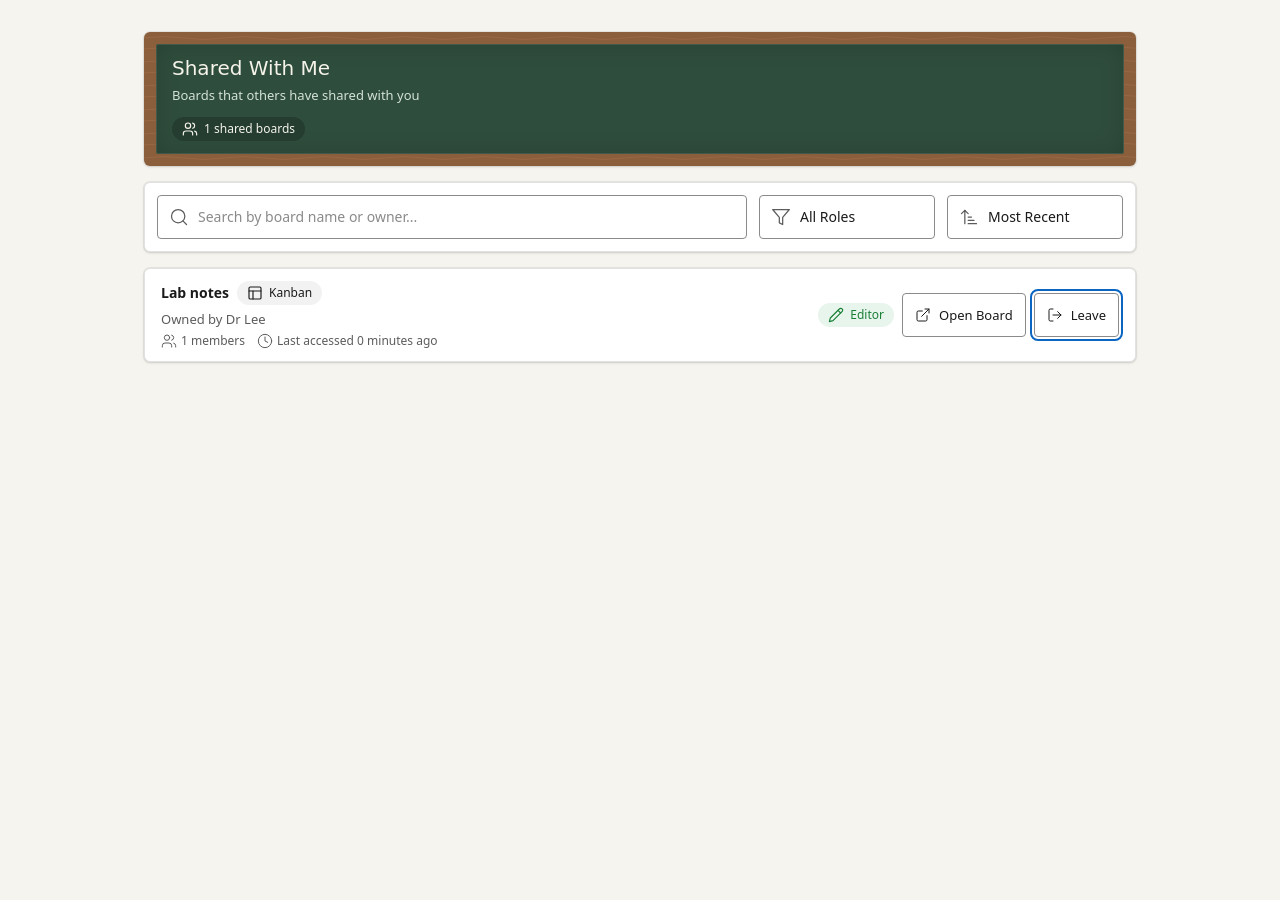
Scenario: SharedPage confirmation dialog › leave: Escape returns focus to Leave Lab notes, and the leave action keeps the danger style
Click the button named "Leave Lab notes" at point(1076, 315), box x1=1034 y1=293 x2=1119 y2=337
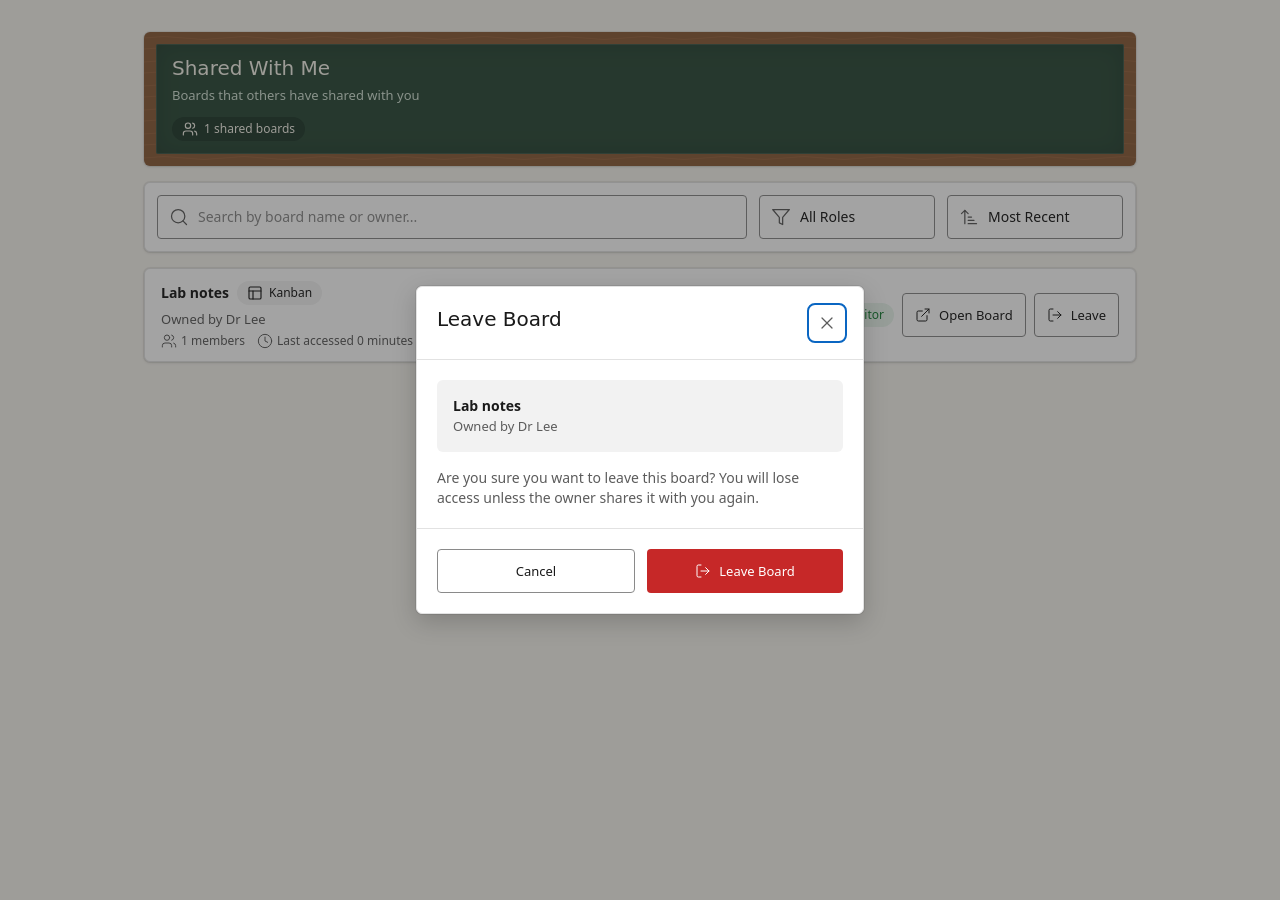
Press Escape
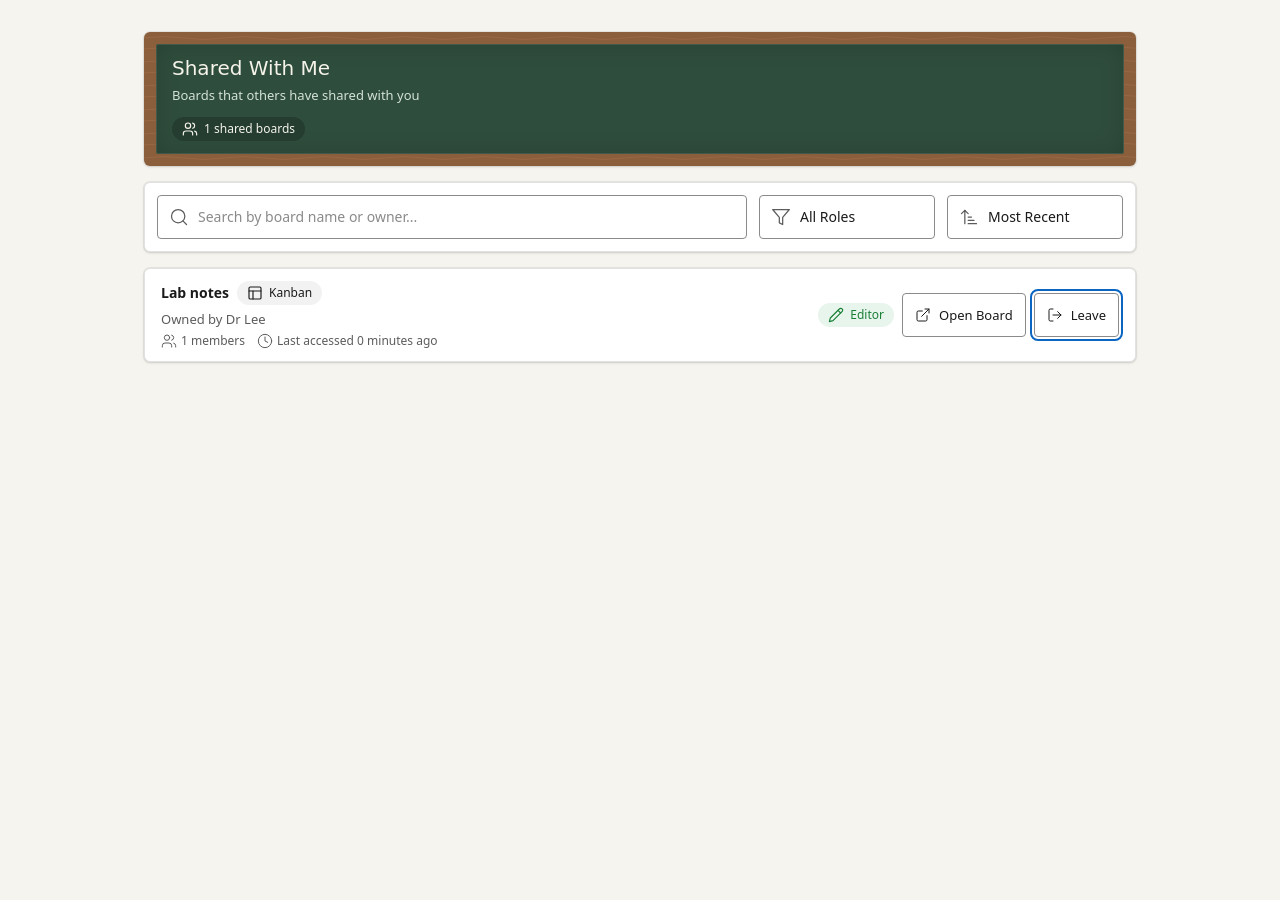
Result: the dialog is gone
